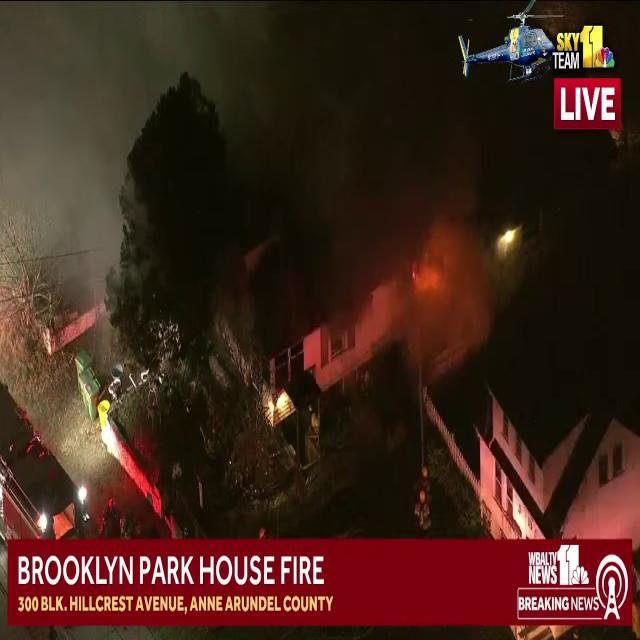Fire: (370, 162, 512, 376), (264, 377, 294, 431)
